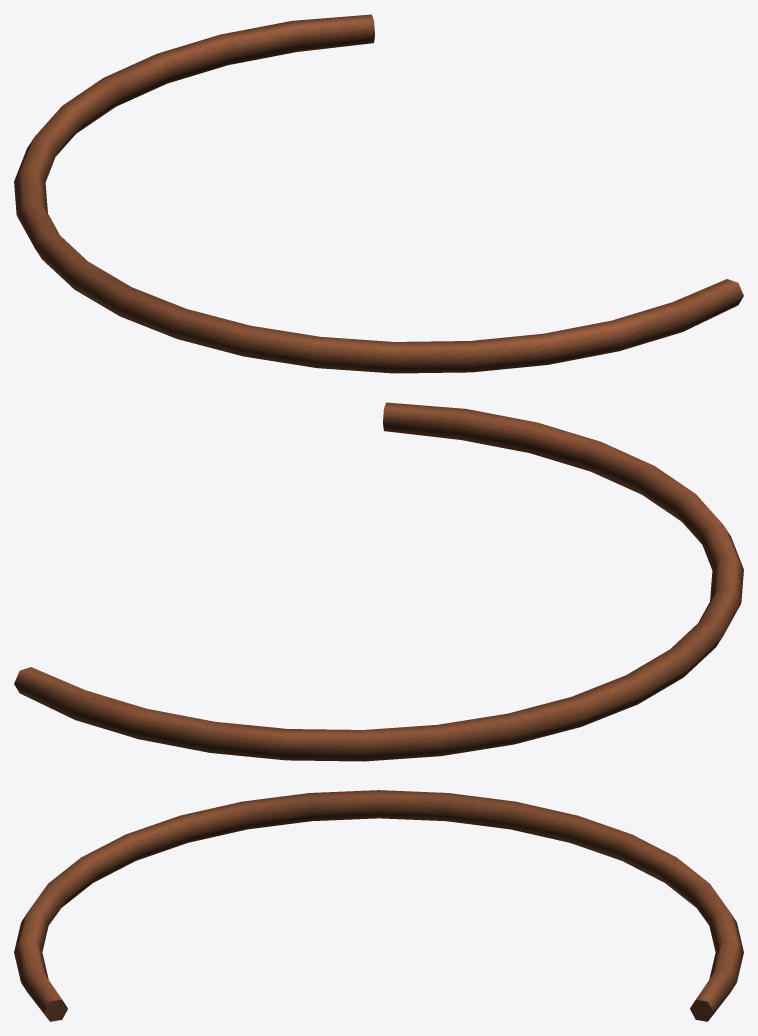
Rendered from observatory-ring.glb.
The picture shows the model from 3 angles, top to bottom: view 1: azimuth 30°, elevation 25°; view 2: azimuth 150°, elevation 25°; view 3: azimuth 270°, elevation 25°; orthographic projection. The views are drawn at different scales.
Visible parts, largest first — view 1: observatory-ring; view 2: observatory-ring; view 3: observatory-ring.
Part boxes in pixels (x1=…): observatory-ring: x1=14, y1=14, x2=743, y2=373; observatory-ring: x1=14, y1=402, x2=743, y2=761; observatory-ring: x1=14, y1=790, x2=743, y2=1021.
Bounding box in the file's own units: 41.1 × 2.01 × 59.12.
Materials: 1 (1 with a texture image).
